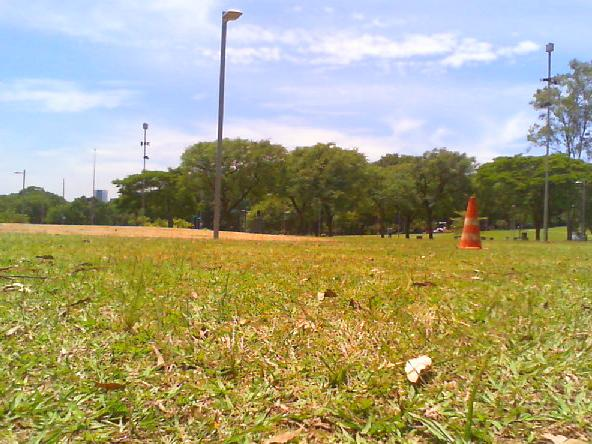0 cone: (459, 196, 483, 251)
